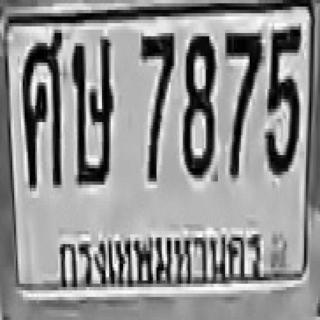A38: (21, 26, 62, 185)
A39: (70, 33, 113, 182)
N05: (264, 25, 299, 173)
N07: (223, 30, 260, 175), (138, 30, 173, 178)
N08: (181, 33, 214, 175)
P04: (56, 230, 263, 287)
